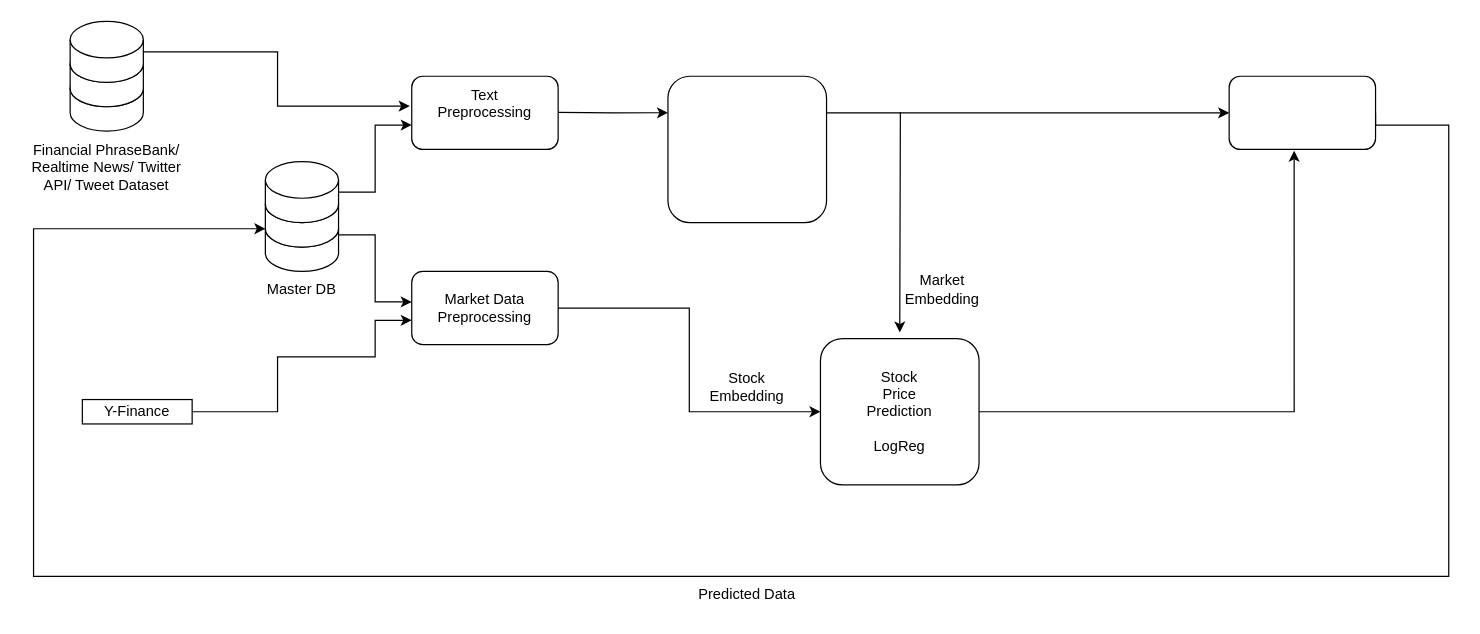
Some shapes in this 1480 by 634 pixel diagram are drawn without their labels. The box of each missing label's shape, as (x1, y1, x2, y2) in pixels:
Predicted Stock Price with Two Liner explainability: (1228, 75, 1376, 149)
Sentiment Analysis FInBert: (667, 75, 827, 223)
